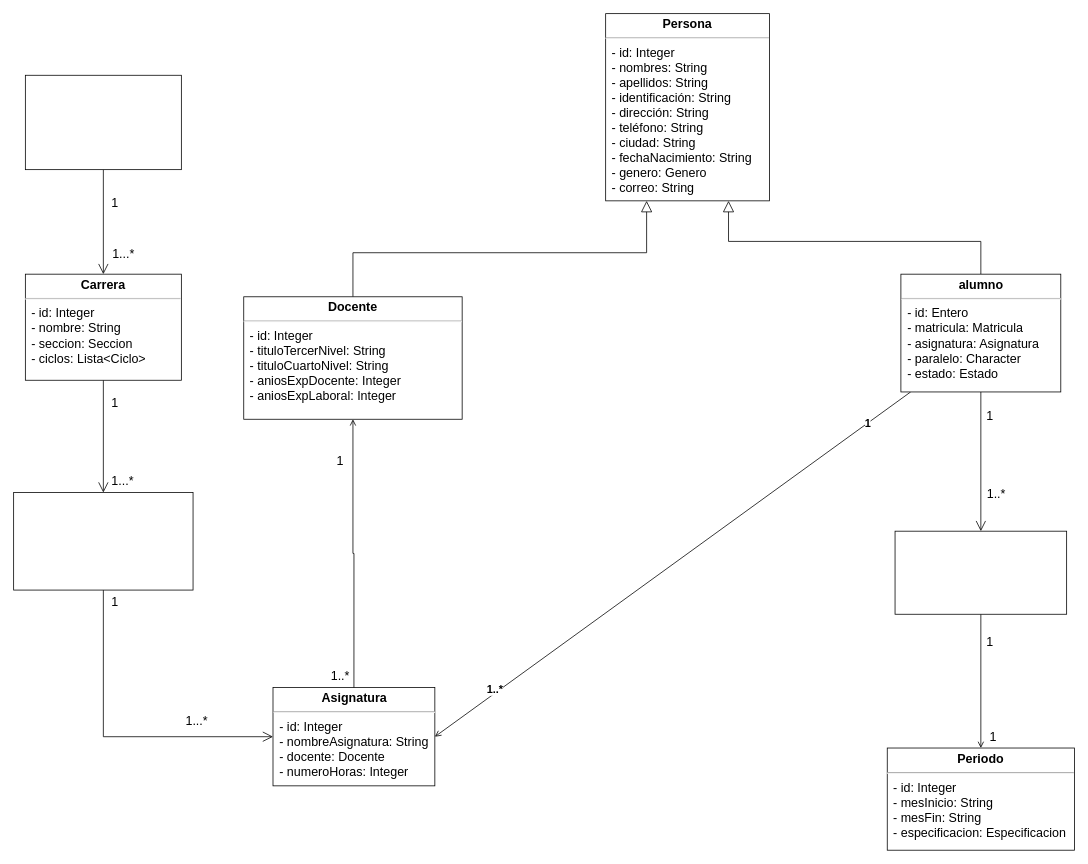
The diagram is 1088 pixels wide and 864 high, and some of its shapes have lost their labels. Here are the shapes that lost their labels. From the top down, the centre of each, then its label:
At point 103,122: "Malla - id: Integer - regimen: String - carreras: Lista<Carrera>".
At point 103,541: "Ciclo - id: Integer - nombre: String - asignatura: Lista<Asignatura>".
At point 980,572: "Matricula - id: Integer - fechaEmision: String - periodo: Periodo".
